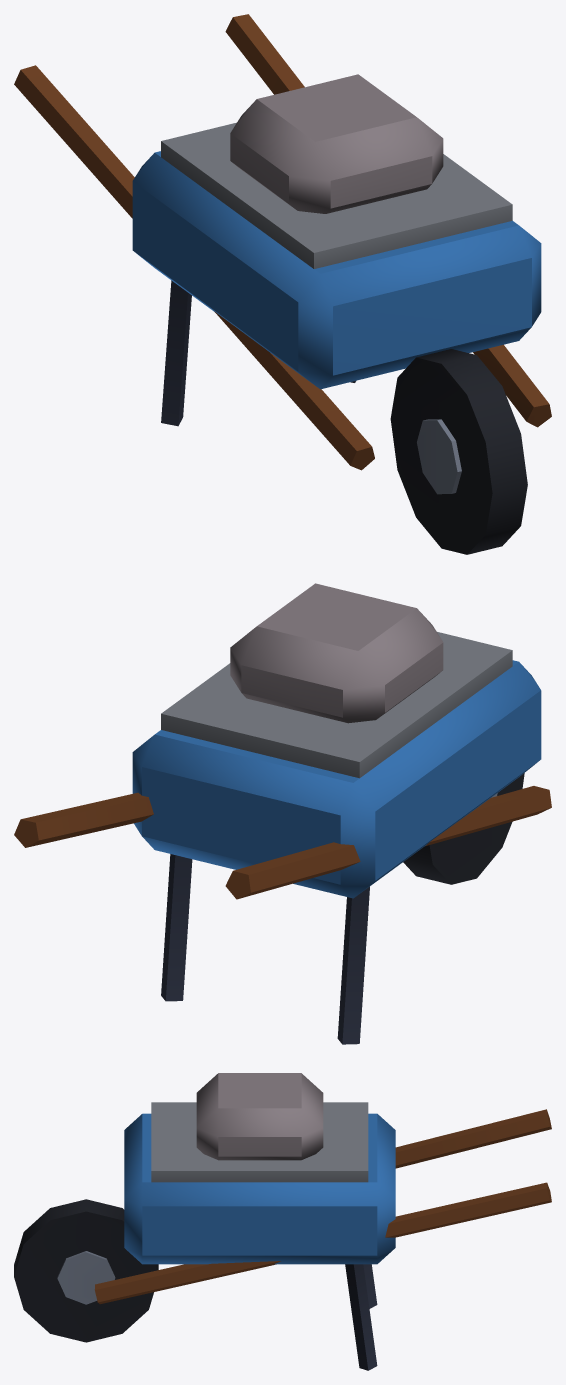
Rendered from c_barrow.glb.
The picture shows the model from 3 angles, top to bottom: view 1: azimuth 30°, elevation 25°; view 2: azimuth 150°, elevation 25°; view 3: azimuth 270°, elevation 25°; orthographic projection. The views are drawn at different scales.
Visible parts, largest first — view 1: body; view 2: body; view 3: body.
Part boxes in pixels (x1,y1,x2,y2): body: (14,14,551,554); body: (14,583,551,1044); body: (14,1073,551,1370).
Bounding box in the file's own units: 0.55 × 0.7531 × 1.49.
